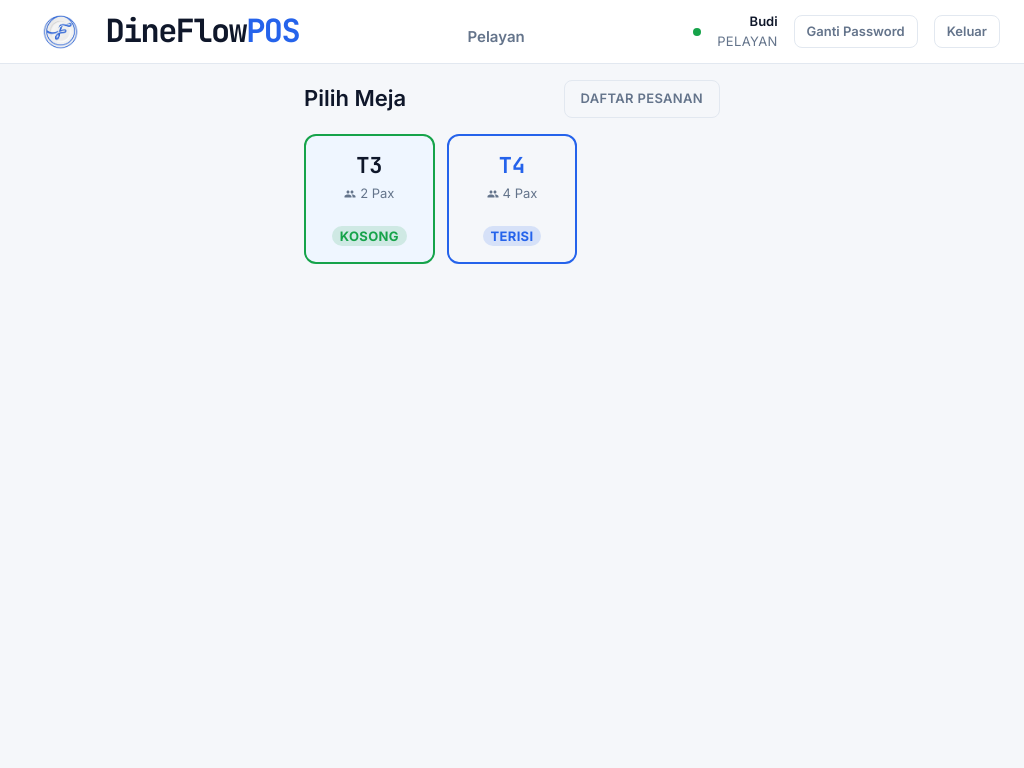
Scenario: PelayanPage alur bayar QRIS › memakai PPN dari backend untuk total di perangkat pelayan
Click the button "T3 2 Pax Kosong" at (369, 199), box top-left (304, 134), bottom-right (435, 264)
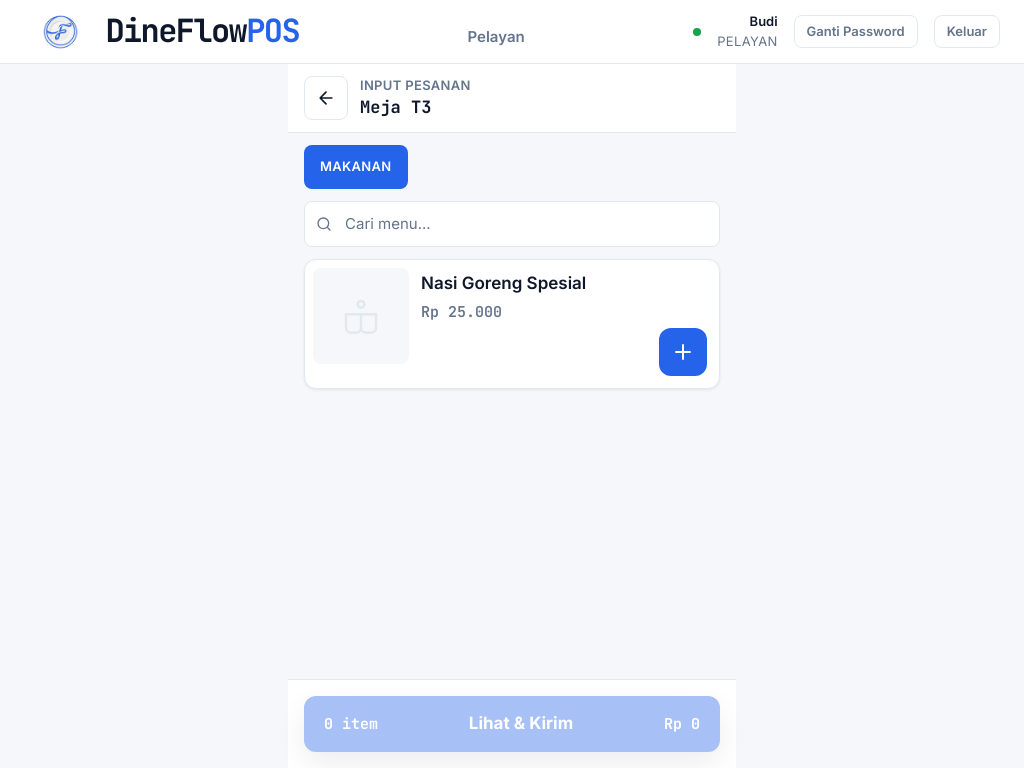
Click the button named "Tambah Nasi Goreng Spesial" at (683, 352), box top-left (659, 328), bottom-right (707, 376)
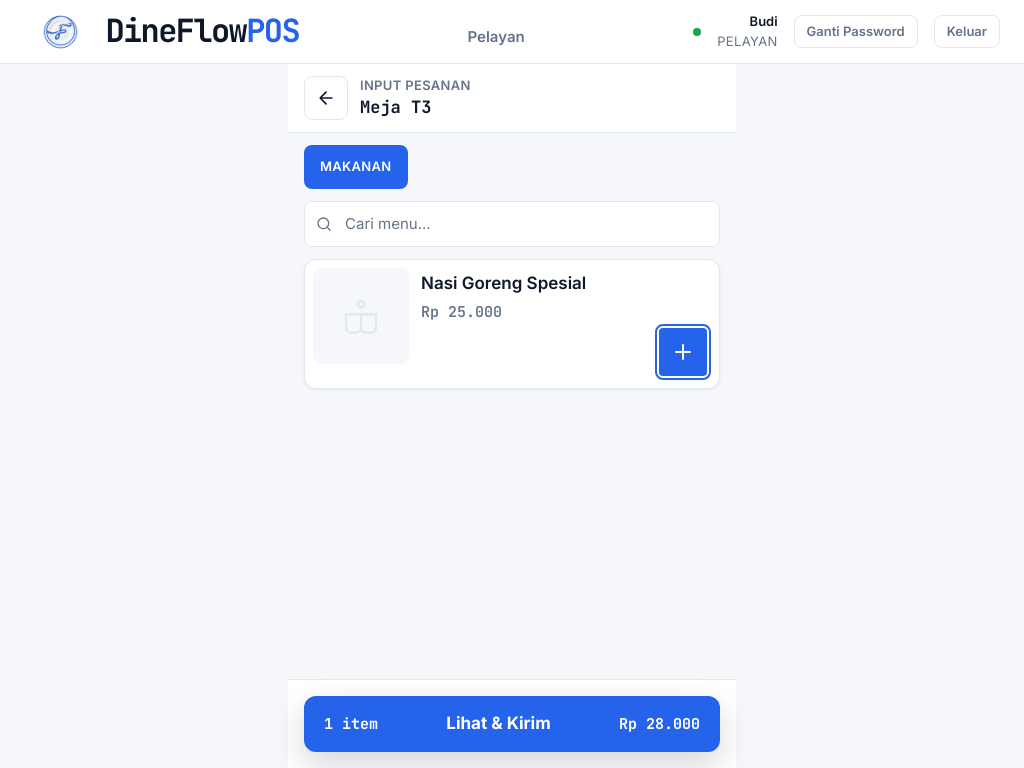
Expected: the text "Rp 28.000" is shown, top-left (619, 712), bottom-right (700, 736)
